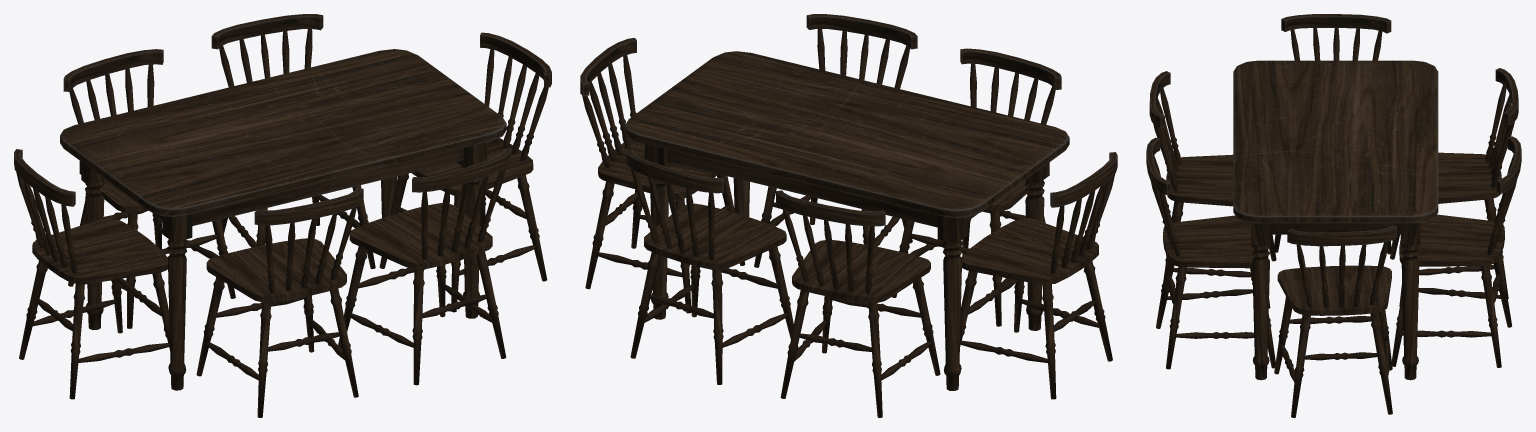
3 renders of one model, left to right at view 1: azimuth 30°, elevation 25°; view 2: azimuth 150°, elevation 25°; view 3: azimuth 270°, elevation 25°, orthographic. The views are drawn at different scales.
Parts seen in each view (by area): view 1: Mesa, Cadeira.004, Cadeira.005, Cadeira, Cadeira.003, Cadeira.001, Cadeira.002; view 2: Mesa, Cadeira.002, Cadeira.001, Cadeira, Cadeira.003, Cadeira.005, Cadeira.004; view 3: Mesa, Cadeira.003, Cadeira.004, Cadeira.002, Cadeira.001, Cadeira.005, Cadeira.
Boxes of the visible parts, x1=… form: Mesa: x1=60, y1=49, x2=506, y2=390; Cadeira.004: x1=338, y1=149, x2=510, y2=385; Cadeira.005: x1=196, y1=188, x2=363, y2=417; Cadeira: x1=14, y1=149, x2=169, y2=399; Cadeira.003: x1=379, y1=32, x2=551, y2=312; Cadeira.001: x1=63, y1=49, x2=235, y2=328; Cadeira.002: x1=211, y1=14, x2=375, y2=269; Mesa: x1=625, y1=51, x2=1069, y2=390; Cadeira.002: x1=626, y1=150, x2=793, y2=384; Cadeira.001: x1=776, y1=190, x2=940, y2=417; Cadeira: x1=960, y1=152, x2=1117, y2=399; Cadeira.003: x1=580, y1=38, x2=745, y2=313; Cadeira.005: x1=892, y1=48, x2=1061, y2=326; Cadeira.004: x1=754, y1=14, x2=917, y2=267; Mesa: x1=1233, y1=60, x2=1438, y2=380; Cadeira.003: x1=1274, y1=225, x2=1396, y2=417; Cadeira.004: x1=1146, y1=137, x2=1275, y2=369; Cadeira.002: x1=1391, y1=136, x2=1521, y2=367; Cadeira.001: x1=1390, y1=68, x2=1518, y2=306; Cadeira.005: x1=1149, y1=71, x2=1276, y2=308; Cadeira: x1=1274, y1=14, x2=1391, y2=254.
Size of the model in its own units: 2.13 by 0.8456 by 1.53.
1 material, 1 textured.
